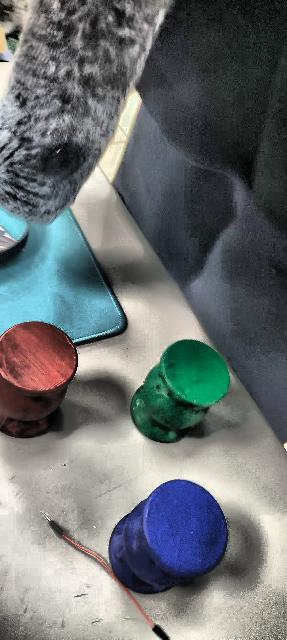blue: (109, 478, 229, 594)
green: (130, 338, 230, 444)
red: (0, 322, 74, 449)
